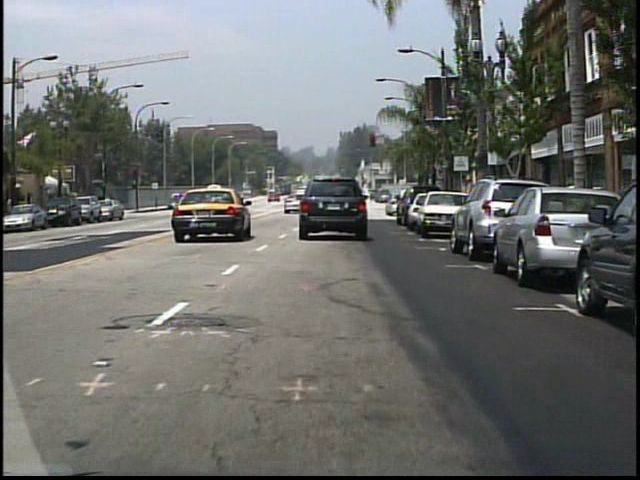person: (336, 189, 350, 213), (220, 189, 234, 212)
